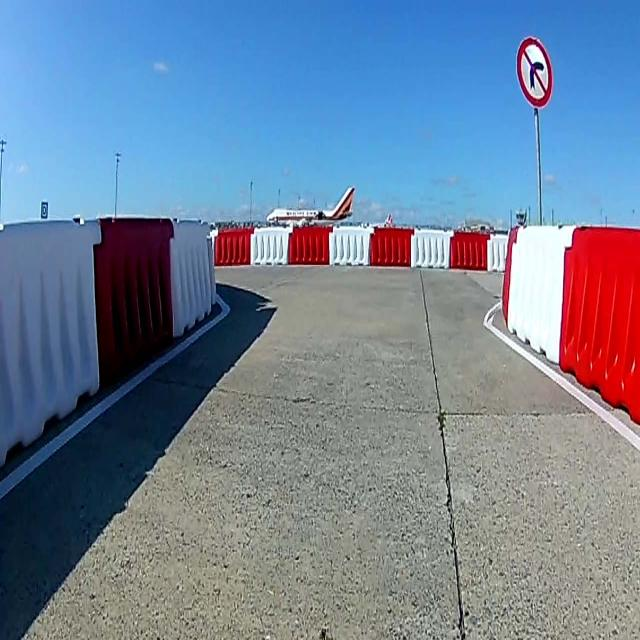sagadonulmez: (516, 36, 552, 110)
